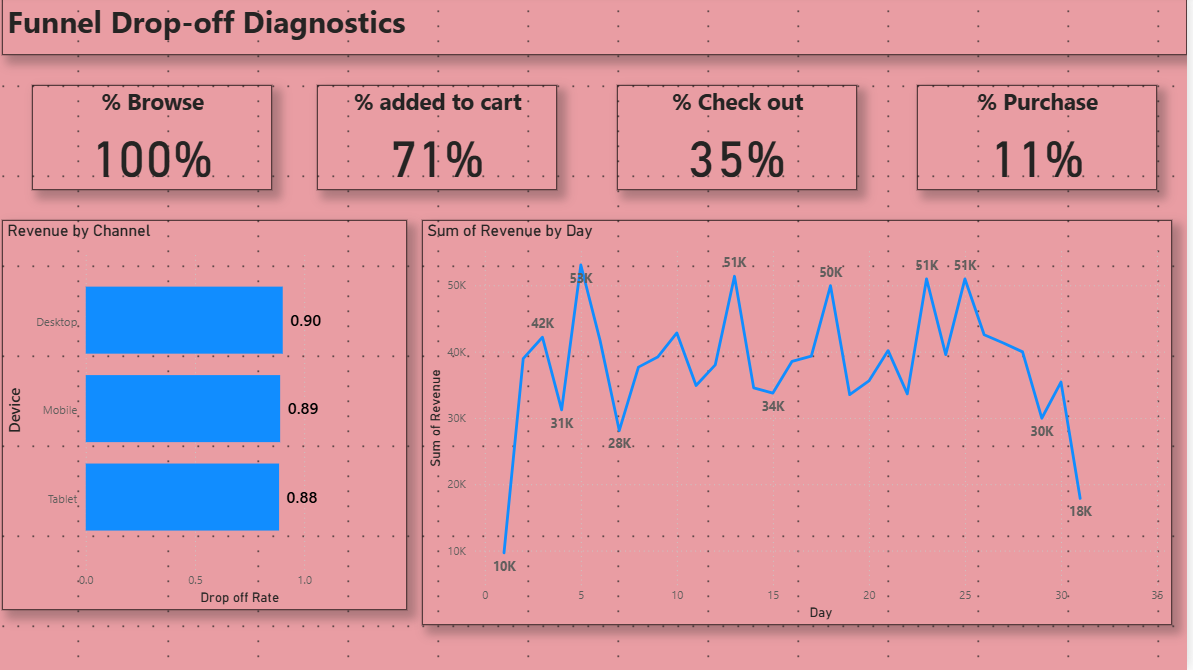

The page's visual inventory and layout, read from the dashboard file:
{"tool":"powerbi","page":{"name":"Page 2","canvas":[1280,720],"ordinal":1},"visuals":[{"type":"textbox","box":[16,0,1264,64],"z":0},{"type":"card","title":"%  Browse ","fields":{"Values":["funnel_analysis_data.p_BRO"]},"box":[48,96,256,112],"z":1000},{"type":"card","title":"% added to cart","fields":{"Values":["funnel_analysis_data.p_ATC"]},"box":[352,96,256,112],"z":2000},{"type":"card","title":"% Check out ","fields":{"Values":["funnel_analysis_data.p_che"]},"box":[672,96,256,112],"z":3000},{"type":"card","title":"%  Purchase","fields":{"Values":["funnel_analysis_data.p_PUR"]},"box":[992,96,256,112],"z":4000},{"type":"clusteredBarChart","title":"Revenue by Device","fields":{"Y":["funnel_analysis_data.Drop off Rate"],"Category":["funnel_analysis_data.Device"]},"box":[15.9,240.2,431.1,461.3],"z":5000},{"type":"lineChart","fields":{"Category":["funnel_analysis_data.Date.Variation.Date Hierarchy.Day"],"Y":["Sum(funnel_analysis_data.Revenue)"]},"box":[464.5,240.2,800.1,461.3],"z":6000}]}

Visuals, with their boxes in screenshot pixels (x1, y1, x2, y2), scaled from the page's 1280x720 canvas onto the 1193x670 screenshot:
textbox: bbox=(15, 0, 1192, 60)
"%  Browse " card: bbox=(45, 89, 283, 194)
"% added to cart" card: bbox=(328, 89, 567, 194)
"% Check out " card: bbox=(626, 89, 865, 194)
"%  Purchase" card: bbox=(925, 89, 1163, 194)
"Revenue by Device" clusteredBarChart: bbox=(15, 224, 417, 653)
lineChart - funnel_analysis_data.Date.Variation.Date Hierarchy.Day x Sum(funnel_analysis_data.Revenue): bbox=(433, 224, 1179, 653)
